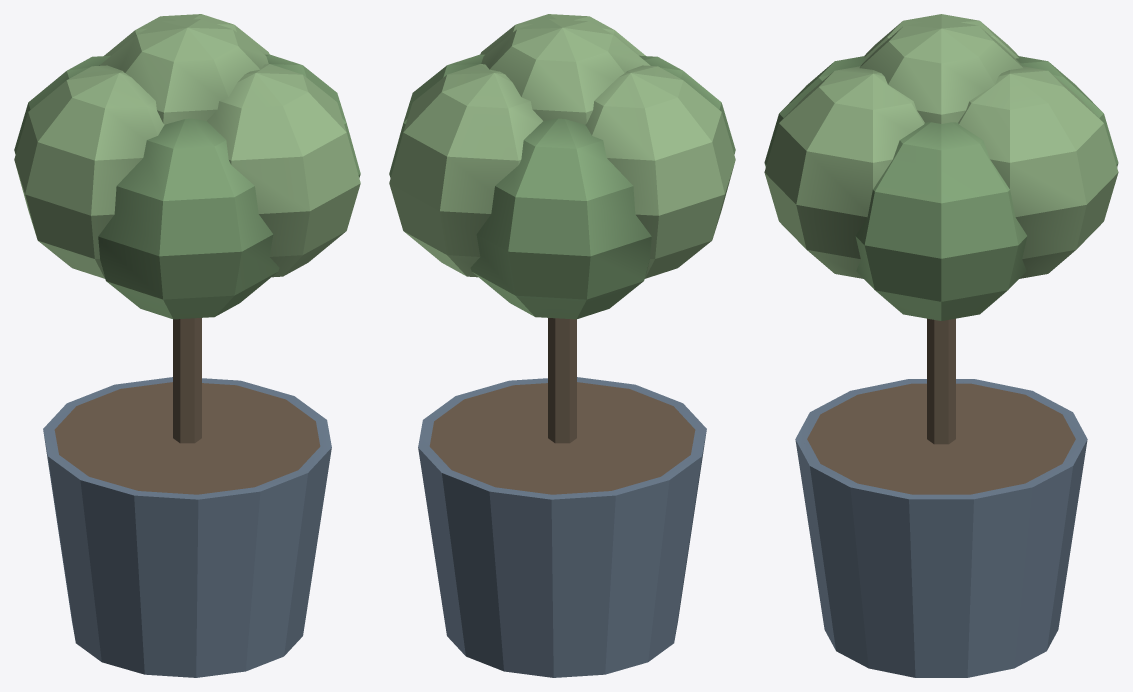
Rendered from furn_plant_pot__navy.glb.
The picture shows the model from 3 angles, left to right: view 1: azimuth 30°, elevation 25°; view 2: azimuth 150°, elevation 25°; view 3: azimuth 270°, elevation 25°; orthographic projection.
Bounding box in the file's own units: 0.642 × 1.13 × 0.6058.
